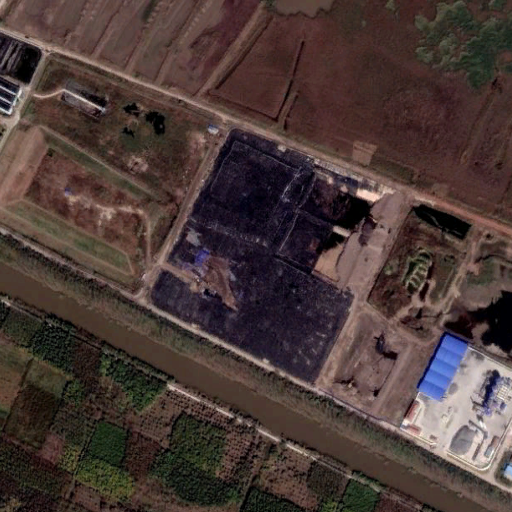lf: (145, 123, 401, 386)
